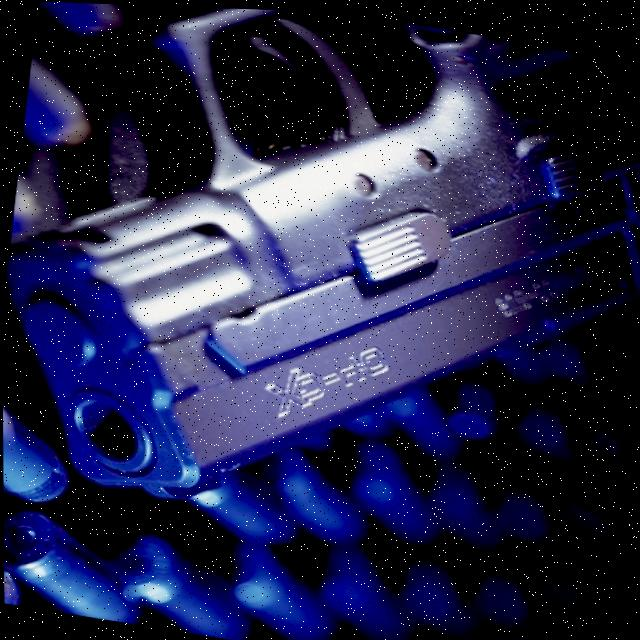pistol: (0, 0, 640, 566)
